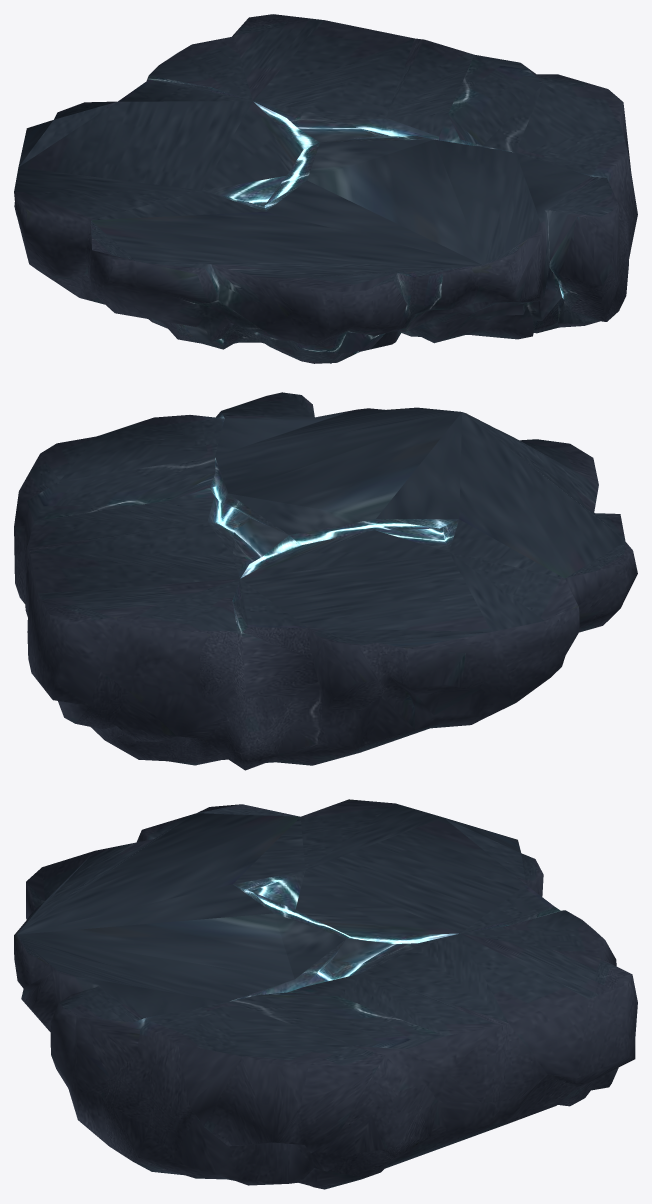
File: MovingPlatform.glb
3 views of the same model, one above another, from view 1: azimuth 30°, elevation 25°; view 2: azimuth 150°, elevation 25°; view 3: azimuth 270°, elevation 25° (orthographic). The views are drawn at different scales.
Visible parts, largest first — view 1: Rock; view 2: Rock; view 3: Rock.
Part boxes in pixels (box(x1,y1,x2,y2)): Rock: box(14, 14, 637, 363); Rock: box(14, 392, 637, 770); Rock: box(14, 799, 637, 1189).
Size of the model in its own units: 1.9 by 0.5109 by 1.84.
Materials: 1 (1 with a texture image).
